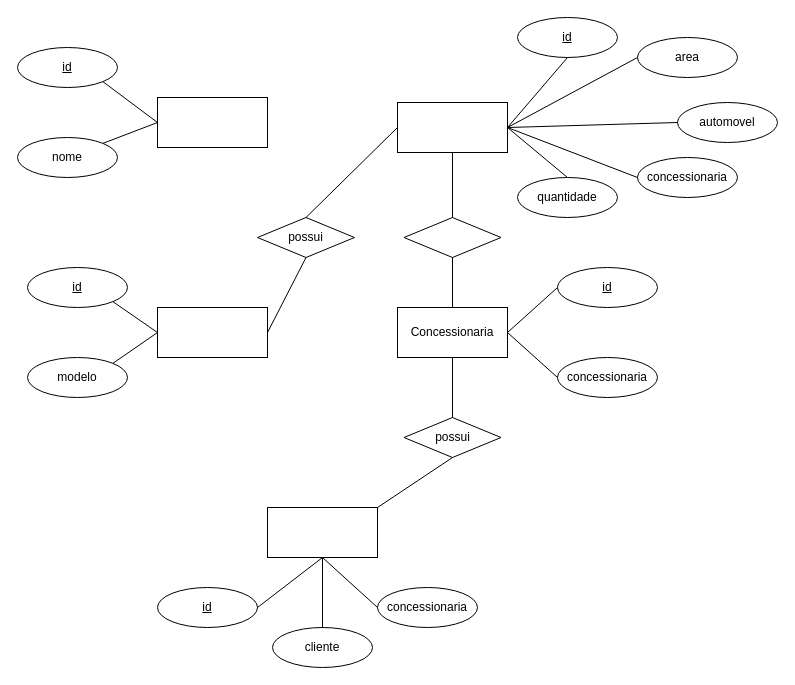
Some shapes in this 795 by 685 pixel diagram are drawn without their labels. Here are the shapes that lost their labels. From the top down, the box of each, then its label:
(156, 96, 268, 148): Clientes
(396, 102, 508, 152): alocacao
(403, 216, 501, 258): faz
(156, 306, 268, 358): Automoveis
(266, 506, 378, 558): vendas
